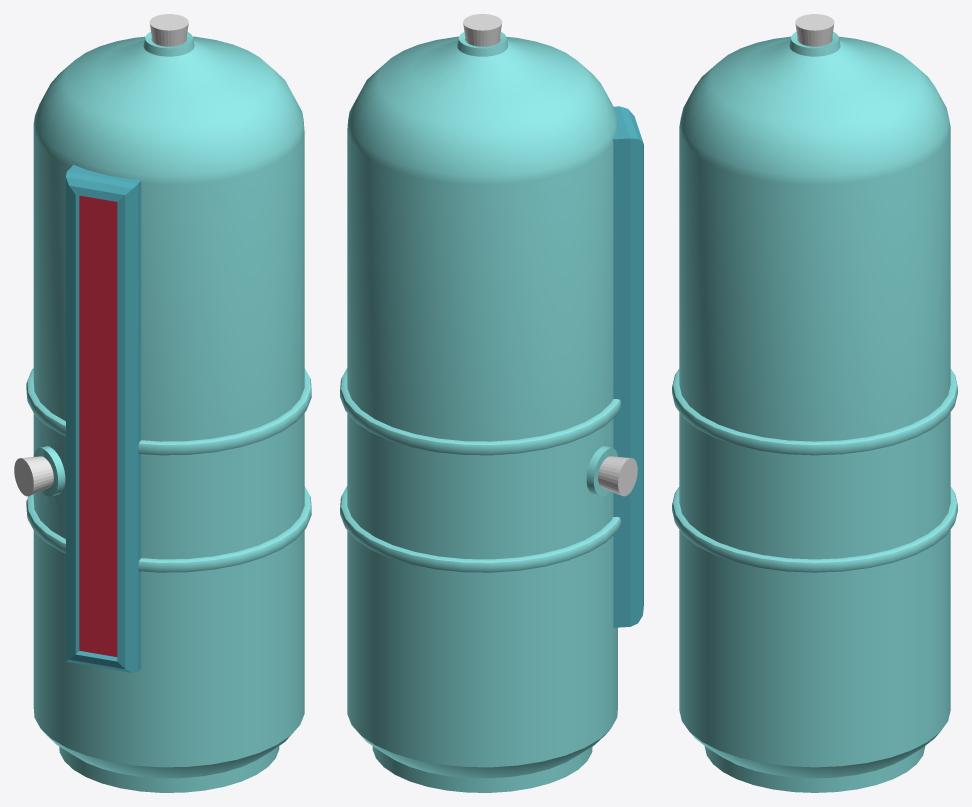
File: barrel 1.fbx
3 renders of one model, left to right at view 1: azimuth 30°, elevation 25°; view 2: azimuth 150°, elevation 25°; view 3: azimuth 270°, elevation 25°, orthographic.
Parts seen in each view (by area): view 1: bochka, bochka.001, bochka.002, probka; view 2: bochka, bochka.001, probka; view 3: bochka, probka.
Part boxes in pixels (box(x1,y1,x2,y2)): bochka: box(26, 31, 311, 792); bochka.001: box(66, 164, 141, 672); bochka.002: box(79, 195, 117, 656); probka: box(14, 14, 188, 496); bochka: box(340, 32, 620, 792); bochka.001: box(612, 106, 643, 627); probka: box(463, 14, 637, 496); bochka: box(672, 31, 957, 792); probka: box(795, 14, 834, 46).
Bounding box in the file's own units: 47.81 × 123 × 44.02.
